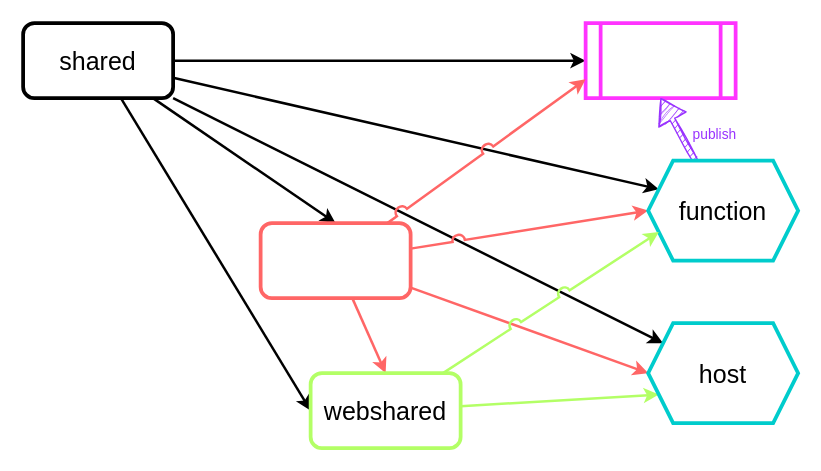
This 821x471 diagram has some shape labels left out. Each missing label, with the centre of its shape:
cli: (660,60)
ruleeng: (335,260)
